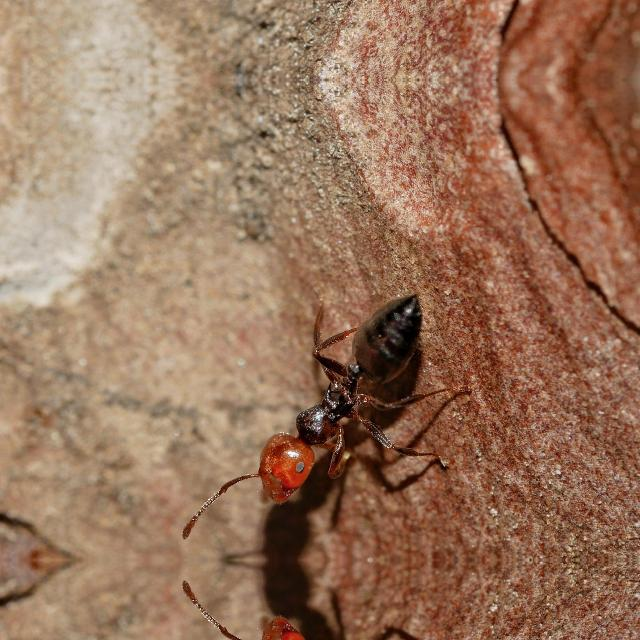Crematogaster: (188, 270, 434, 544), (188, 575, 433, 640)
